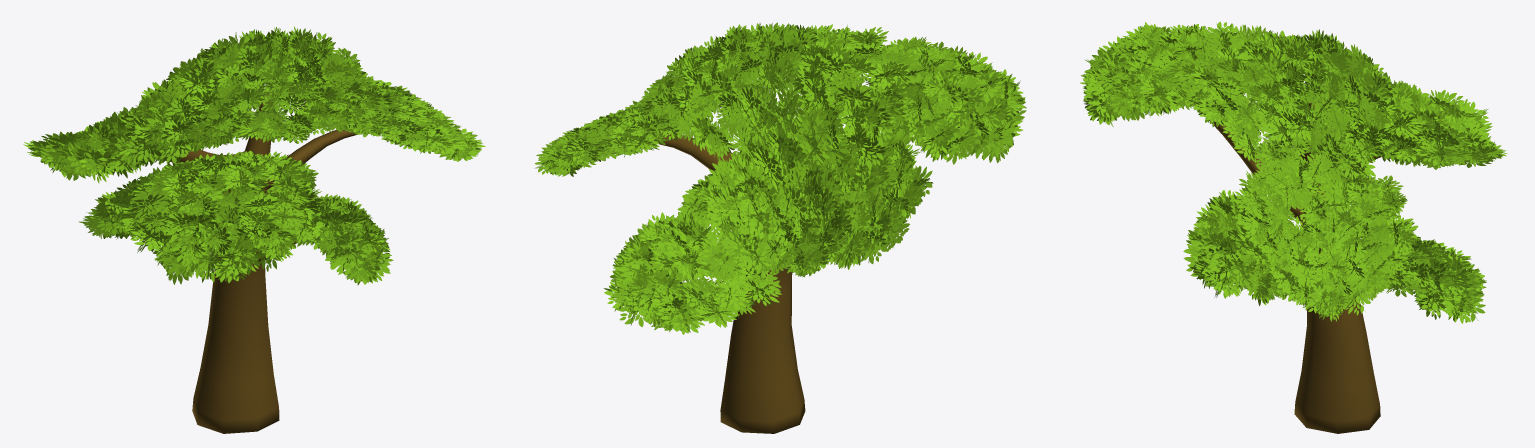
The model's file is new tree test2.fbx.
3 views of the same model, side by side, from view 1: azimuth 30°, elevation 25°; view 2: azimuth 150°, elevation 25°; view 3: azimuth 270°, elevation 25° (orthographic). The views are drawn at different scales.
Visible parts, largest first — view 1: Leaf.002, Tree_Trunk_LOW.001; view 2: Leaf.002, Tree_Trunk_LOW.001; view 3: Leaf.002, Tree_Trunk_LOW.001.
Boxes of the visible parts, <box> form: Leaf.002: <box>23,26,485,285</box>; Tree_Trunk_LOW.001: <box>166,91,356,433</box>; Leaf.002: <box>534,22,1026,334</box>; Tree_Trunk_LOW.001: <box>655,82,930,433</box>; Leaf.002: <box>1080,21,1507,323</box>; Tree_Trunk_LOW.001: <box>1166,68,1380,433</box>.
Size of the model in its own units: 586 by 501 by 533.
